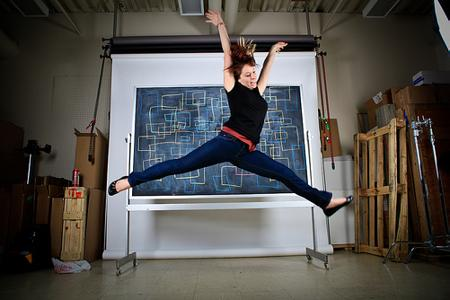person: (110, 10, 355, 216)
